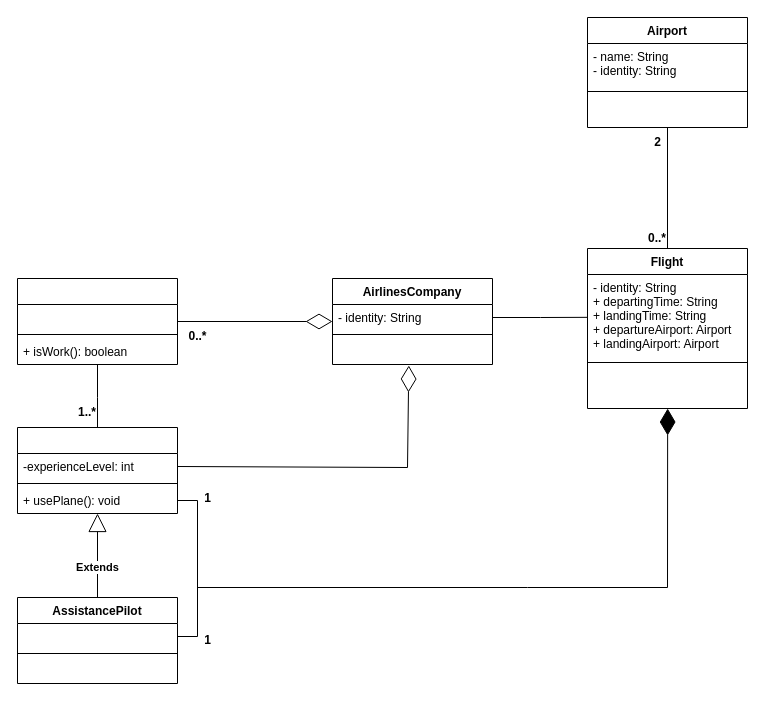
Some shapes in this 765 by 704 pixel diagram are drawn without their labels. Each missing label, with the box of its shape:
Airplane: (16, 278, 178, 364)
Pilot: (16, 426, 178, 514)
